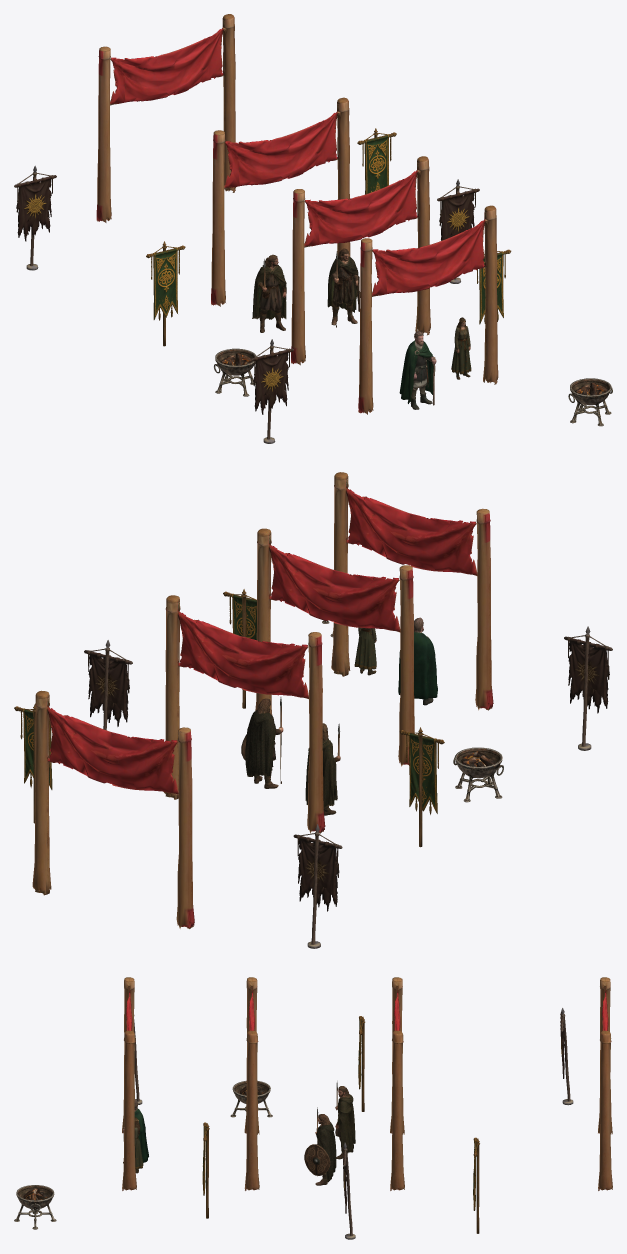
The model's file is 2banquethall.glb.
The picture shows the model from 3 angles, top to bottom: view 1: azimuth 30°, elevation 25°; view 2: azimuth 150°, elevation 25°; view 3: azimuth 270°, elevation 25°; orthographic projection. The views are drawn at different scales.
Visible parts, largest first — view 1: Mesh1.001, Mesh1.0, Mesh_0, Mesh1.007, Mesh1.010, Mesh1.009, Mesh1.011, Mesh1.012; view 2: Mesh1.001, Mesh1.0, Mesh_0, Mesh1.011, Mesh1.007, Mesh1.009, Mesh1.010, Mesh1.012; view 3: Mesh1.001, Mesh1.007, Mesh_0, Mesh1.011, Mesh1.0, Mesh1.010, Mesh1.009.
Boxes of the visible parts, box(x1,y1,x2,y2) form: Mesh1.001: box(96, 14, 498, 414); Mesh1.0: box(14, 165, 479, 443); Mesh_0: box(146, 128, 511, 346); Mesh1.007: box(214, 348, 612, 426); Mesh1.010: box(252, 254, 286, 332); Mesh1.009: box(399, 331, 436, 409); Mesh1.011: box(327, 248, 360, 327); Mesh1.012: box(451, 317, 471, 379); Mesh1.001: box(32, 472, 493, 928); Mesh1.0: box(84, 626, 612, 948); Mesh_0: box(14, 589, 444, 847); Mesh1.011: box(241, 697, 283, 788); Mesh1.007: box(322, 620, 503, 802); Mesh1.009: box(398, 617, 437, 705); Mesh1.010: box(305, 723, 340, 815); Mesh1.012: box(354, 627, 376, 675); Mesh1.001: box(122, 977, 612, 1190); Mesh1.007: box(14, 1080, 272, 1229); Mesh_0: box(202, 1016, 479, 1233); Mesh1.011: box(304, 1107, 336, 1185); Mesh1.0: box(134, 1008, 573, 1239); Mesh1.010: box(335, 1080, 355, 1159); Mesh1.009: box(122, 1100, 148, 1163).
Bounding box in the file's own units: 10.36 × 5.28 × 17.1.
8 materials, 8 textured.
